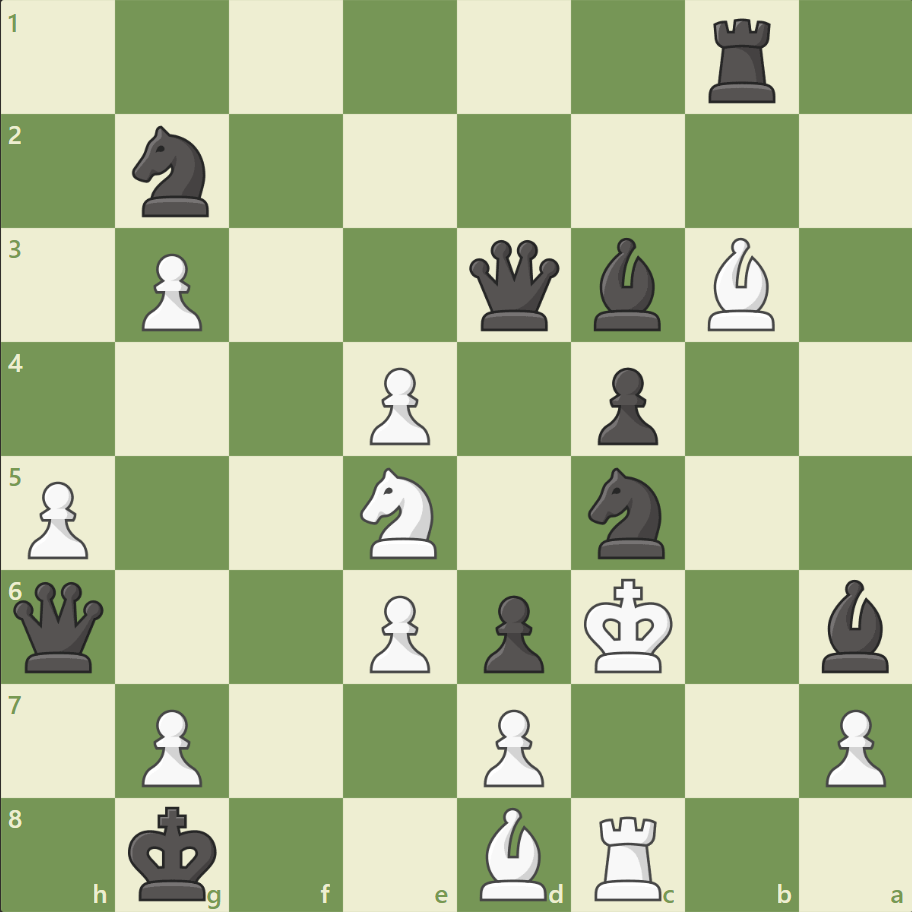B: (471, 801, 555, 904), (698, 233, 782, 336)
K: (579, 571, 679, 679)
N: (351, 461, 449, 564)
P: (474, 700, 549, 791), (133, 700, 208, 791), (20, 473, 95, 564), (133, 246, 208, 337), (815, 700, 889, 791), (361, 586, 435, 677), (361, 359, 435, 450)
R: (587, 806, 670, 904)
b: (585, 233, 669, 336), (812, 574, 896, 676)
k: (124, 798, 224, 906)
n: (124, 121, 222, 223), (579, 461, 676, 564)
p: (474, 586, 549, 677), (588, 359, 662, 450)
q: (10, 576, 109, 676), (464, 236, 563, 335)
r: (700, 12, 783, 109)
